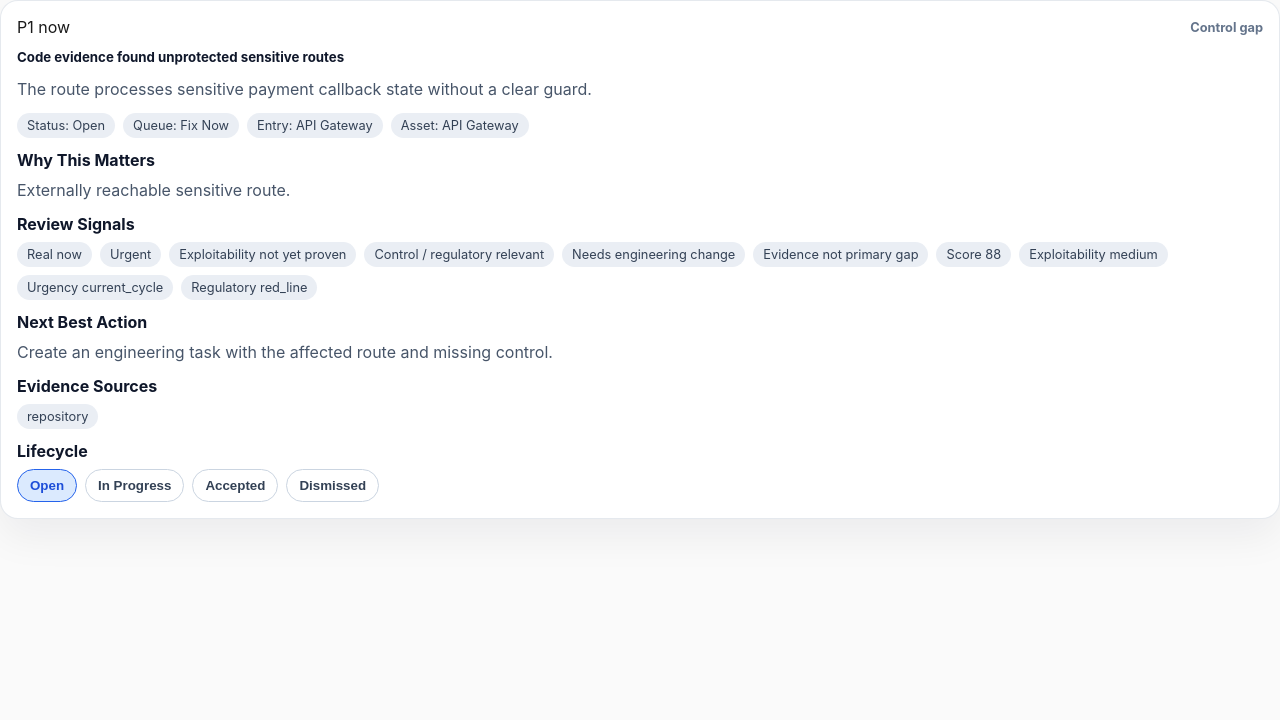
Test: SecurityReviewFindingDetail › rejects invalid risk acceptance expiry values
Step 1. Click the button "Accepted" → [235, 486], box [192, 469, 278, 502]
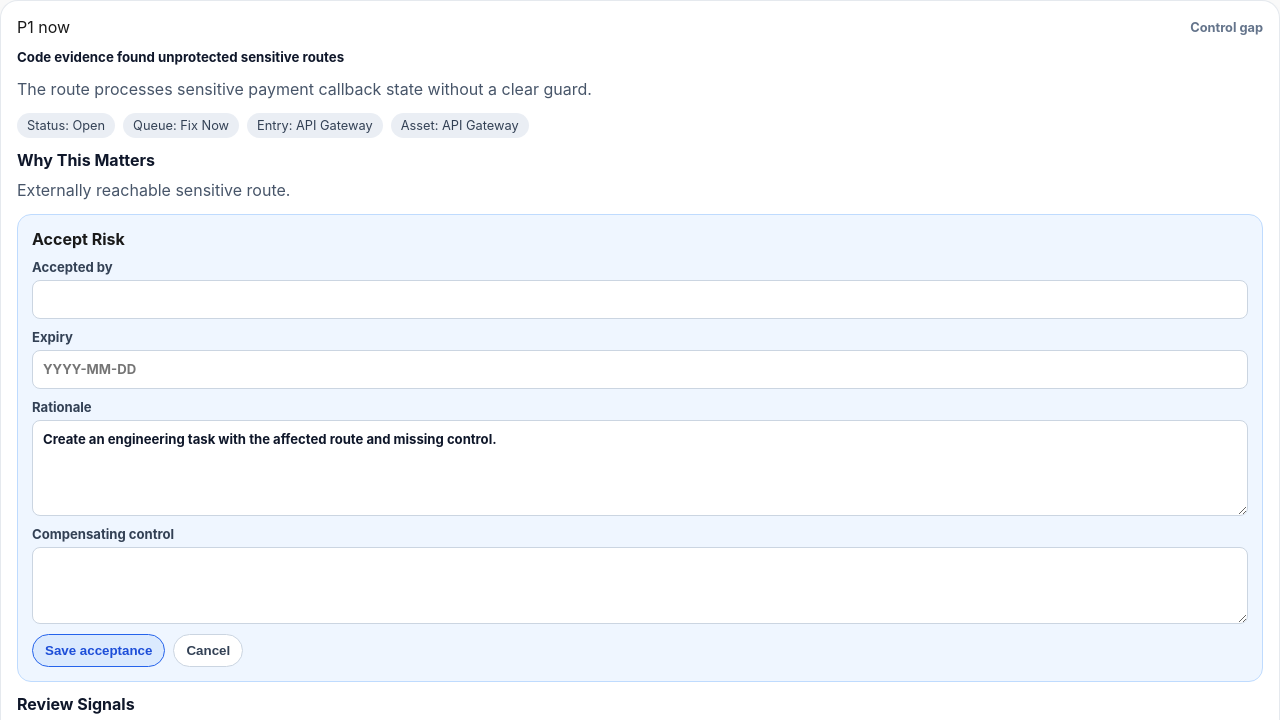
Step 2. Type "not-a-date" into the field labelled "Expiry" → [640, 370], box [32, 350, 1248, 389]
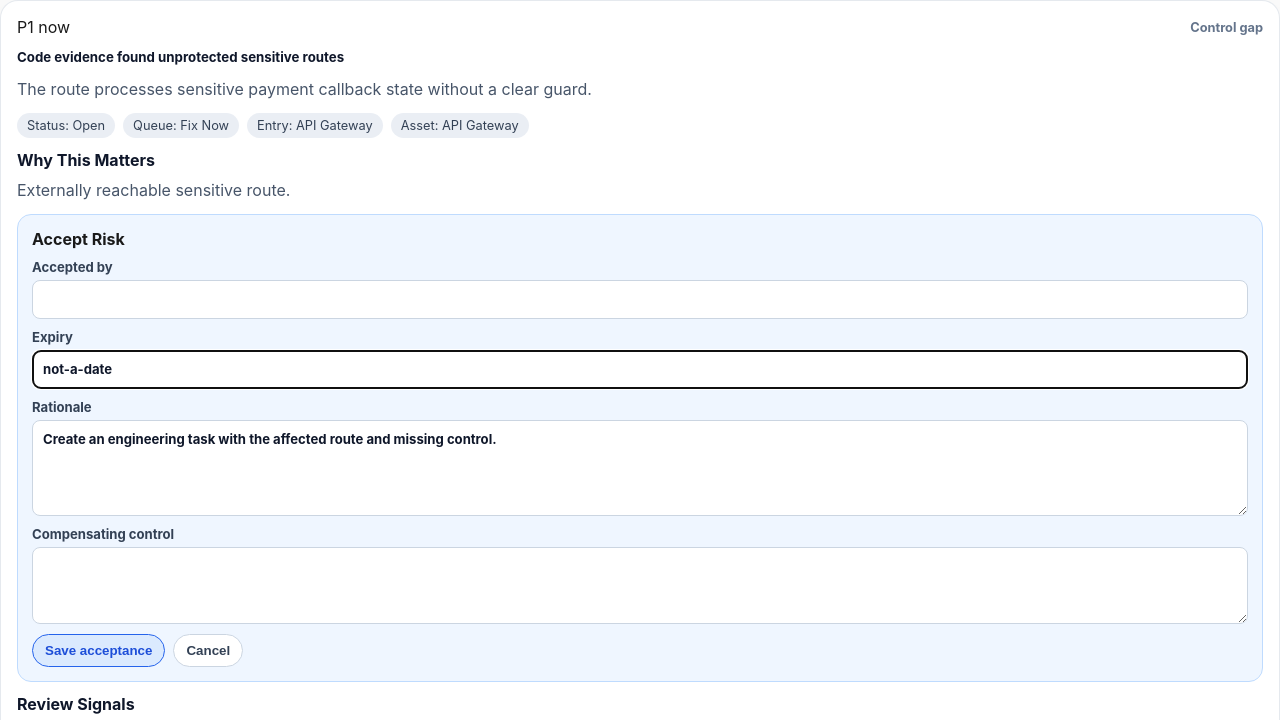
Step 3. Click the button "Save acceptance" → [99, 650], box [32, 634, 166, 667]
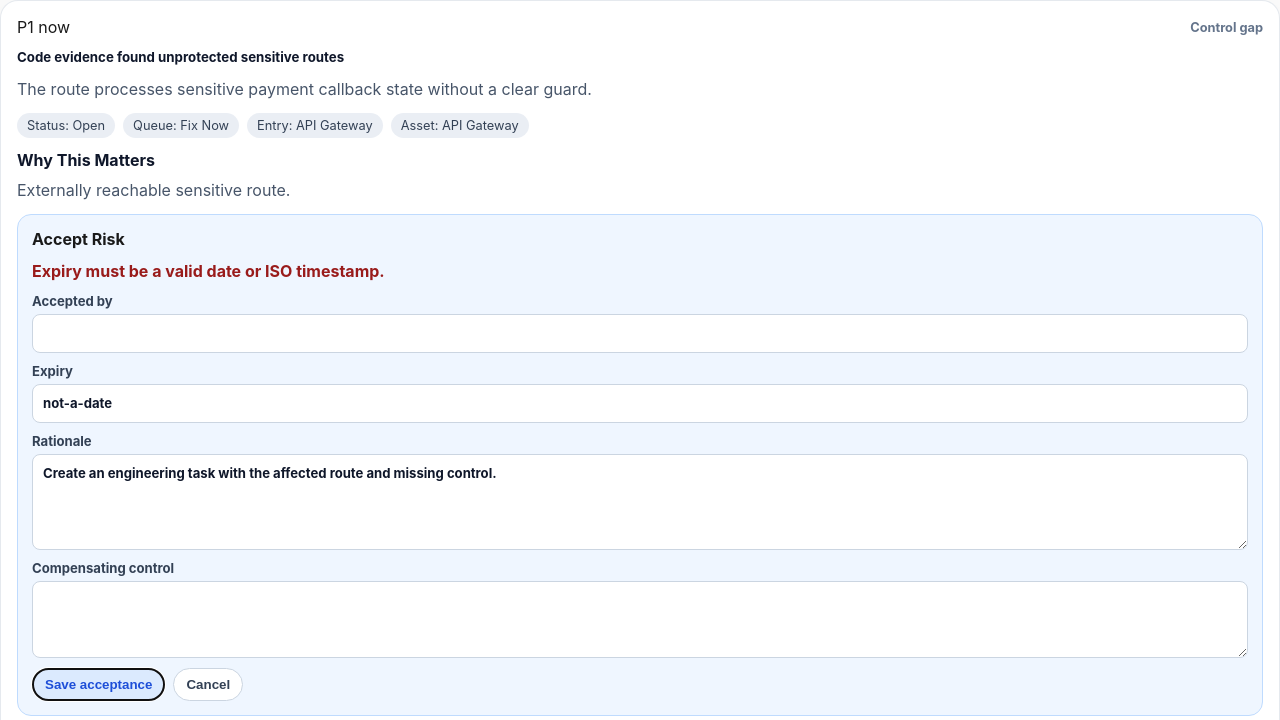
Check: the message reads "Expiry must be a valid date or ISO timestamp.", box [32, 261, 385, 281]
